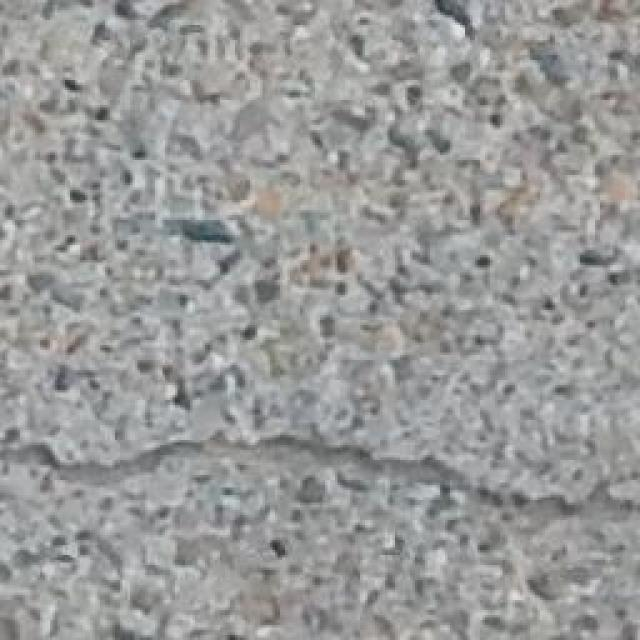concrete-crack: (0, 424, 640, 564)
